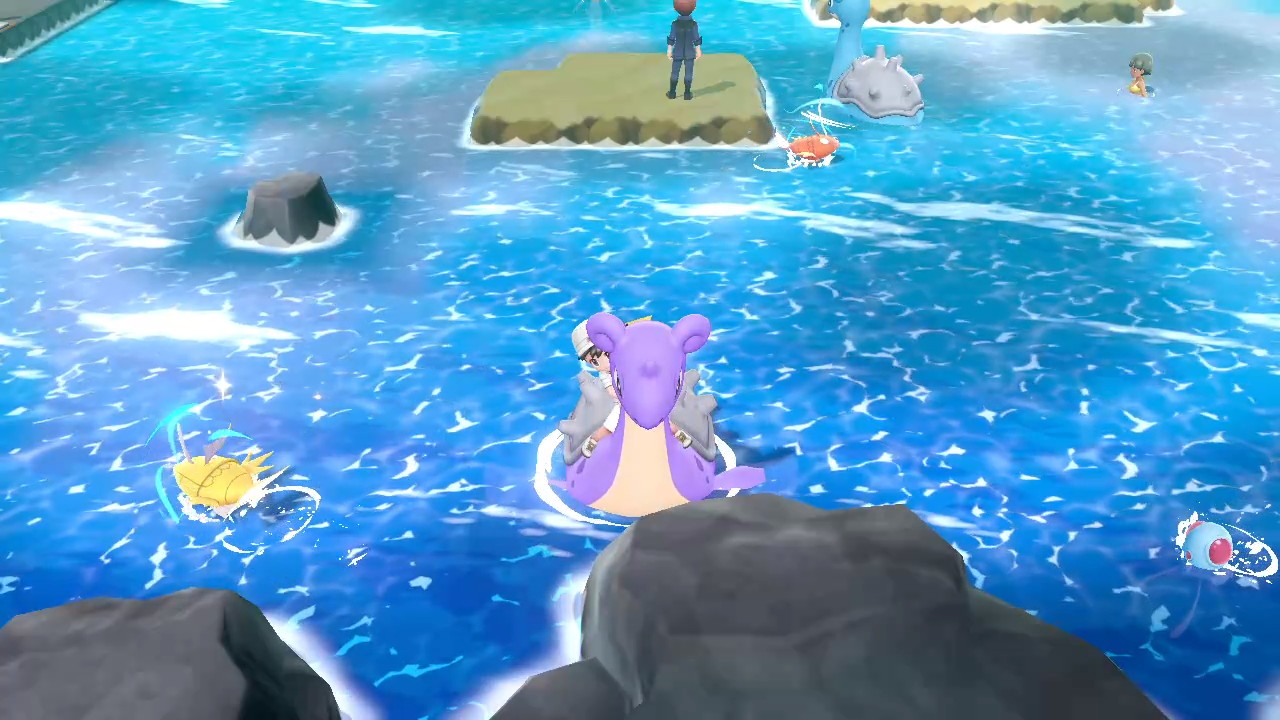Golden: (166, 446, 291, 522)
